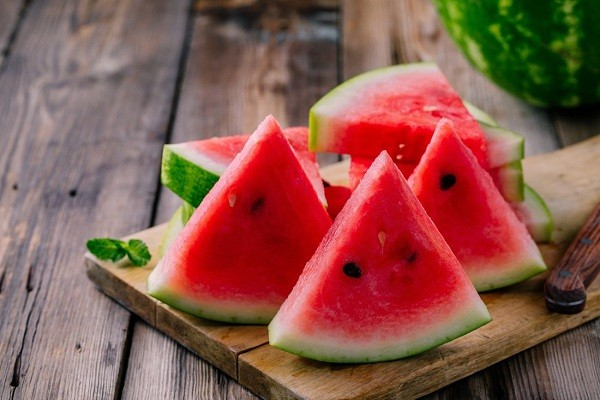Semangka: (267, 174, 449, 368), (158, 117, 319, 328), (424, 140, 530, 283)
